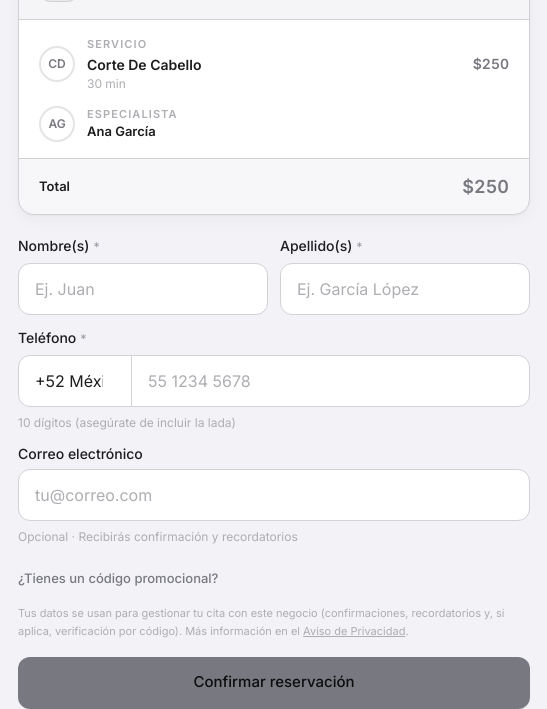
Test case: ClientForm — código promocional › código inexistente (anti-enumeración, sin pricing): no rompe y no muestra ahorro
(page scrolled)
Click the button "¿Tienes un código promocional?".
click(118, 579)  # box [18,569,218,588]
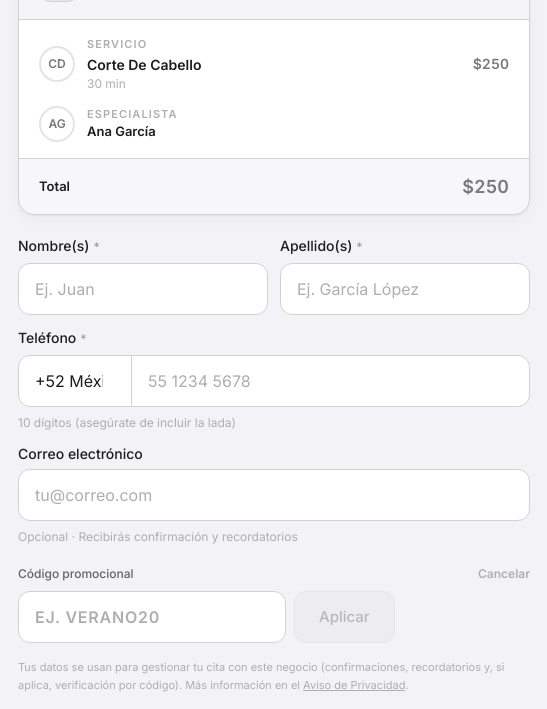
Type "NOEXISTE" into the field with placeholder "Ej. VERANO20".
click(152, 617); type("NOEXISTE")  # box [18,591,286,643]
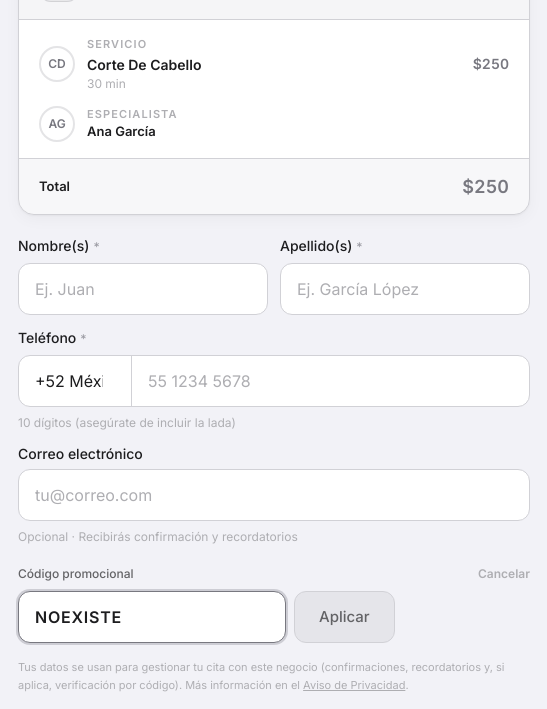
Click the button "Aplicar".
click(344, 617)  # box [294,591,395,643]
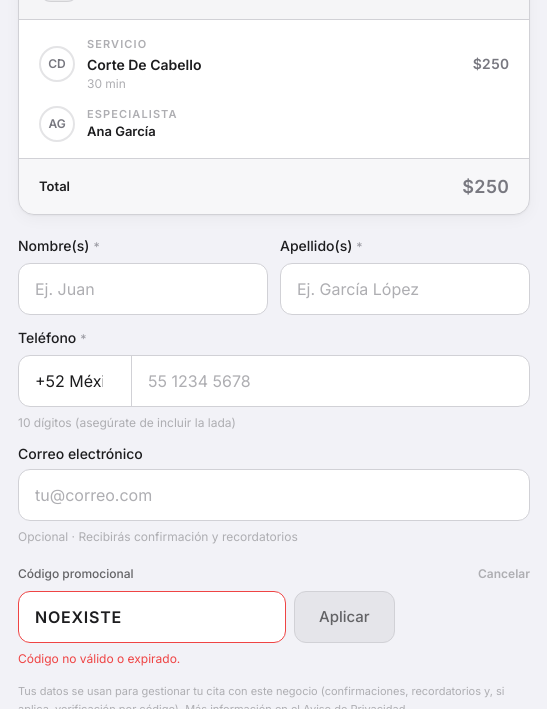
Check: the text "Código no válido o expirado." is shown, box [18,651,180,666]
